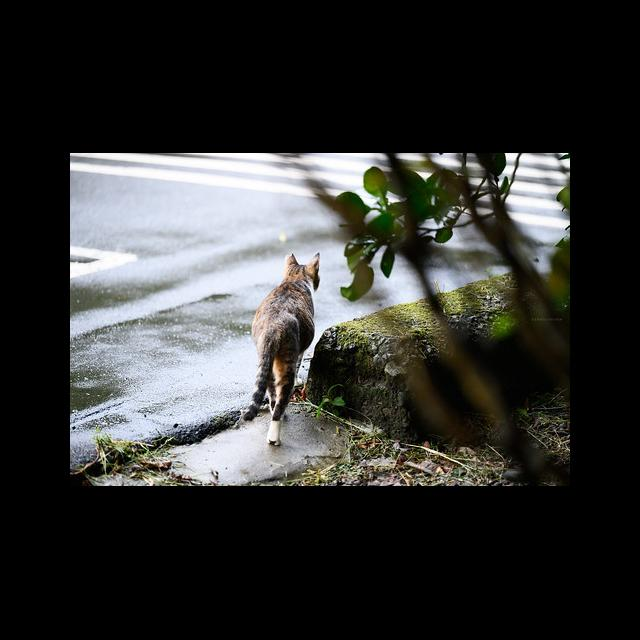animals: (242, 253, 321, 448)
